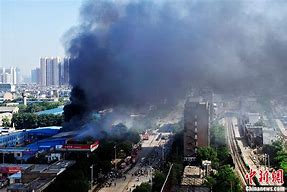smoke: (61, 1, 174, 116)
